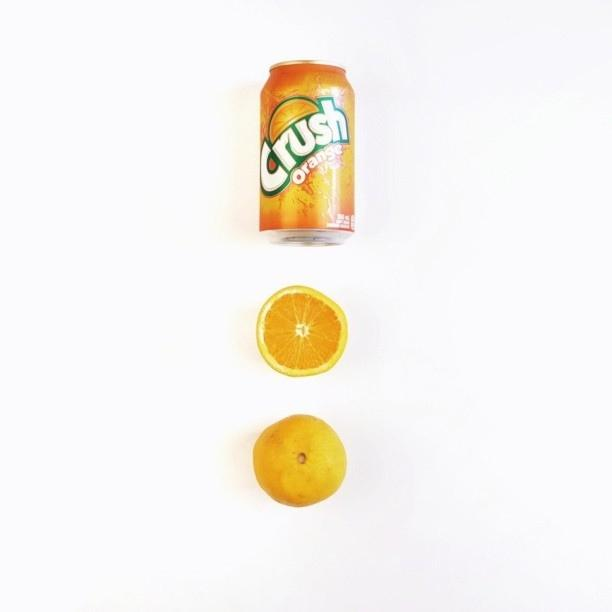orange: (252, 414, 346, 507), (256, 285, 348, 377), (280, 174, 336, 228), (270, 100, 320, 144)
